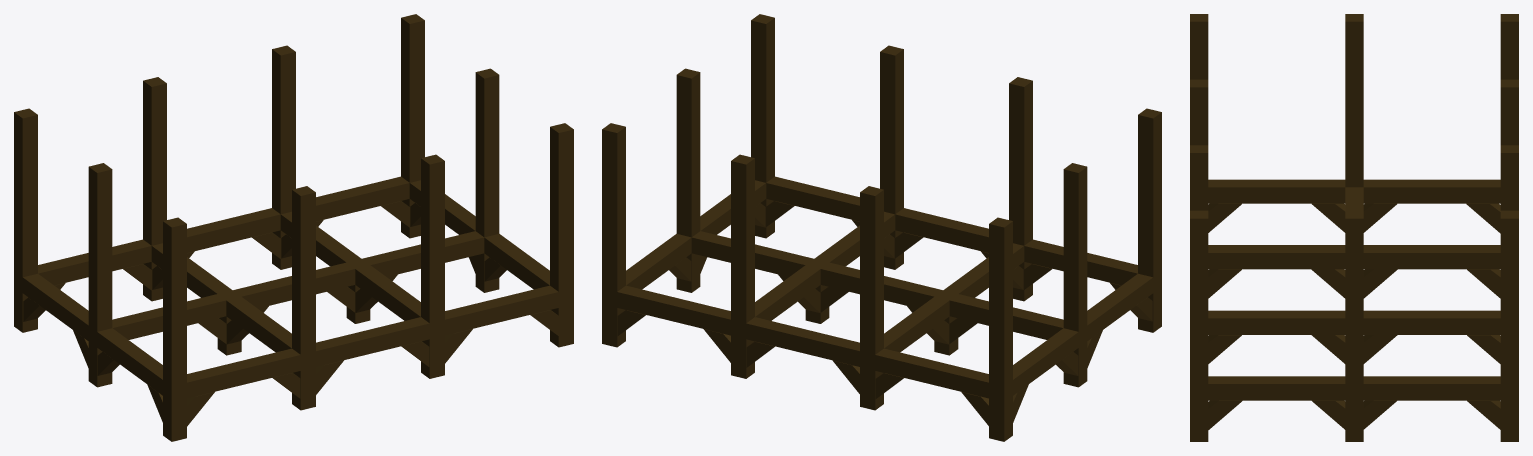
File: temelj.FBX
3 views of the same model, side by side, from view 1: azimuth 30°, elevation 25°; view 2: azimuth 150°, elevation 25°; view 3: azimuth 270°, elevation 25° (orthographic). The views are drawn at different scales.
Parts seen in each view (by area): view 1: temeljna_ugaona_Greda035; view 2: temeljna_ugaona_Greda035; view 3: temeljna_ugaona_Greda035.
Boxes of the visible parts, box(x1,y1,x2,y2) form: temeljna_ugaona_Greda035: box(14, 14, 573, 441); temeljna_ugaona_Greda035: box(602, 14, 1161, 441); temeljna_ugaona_Greda035: box(1190, 14, 1518, 441).
Bounding box in the file's own units: 530 × 270 × 360.
